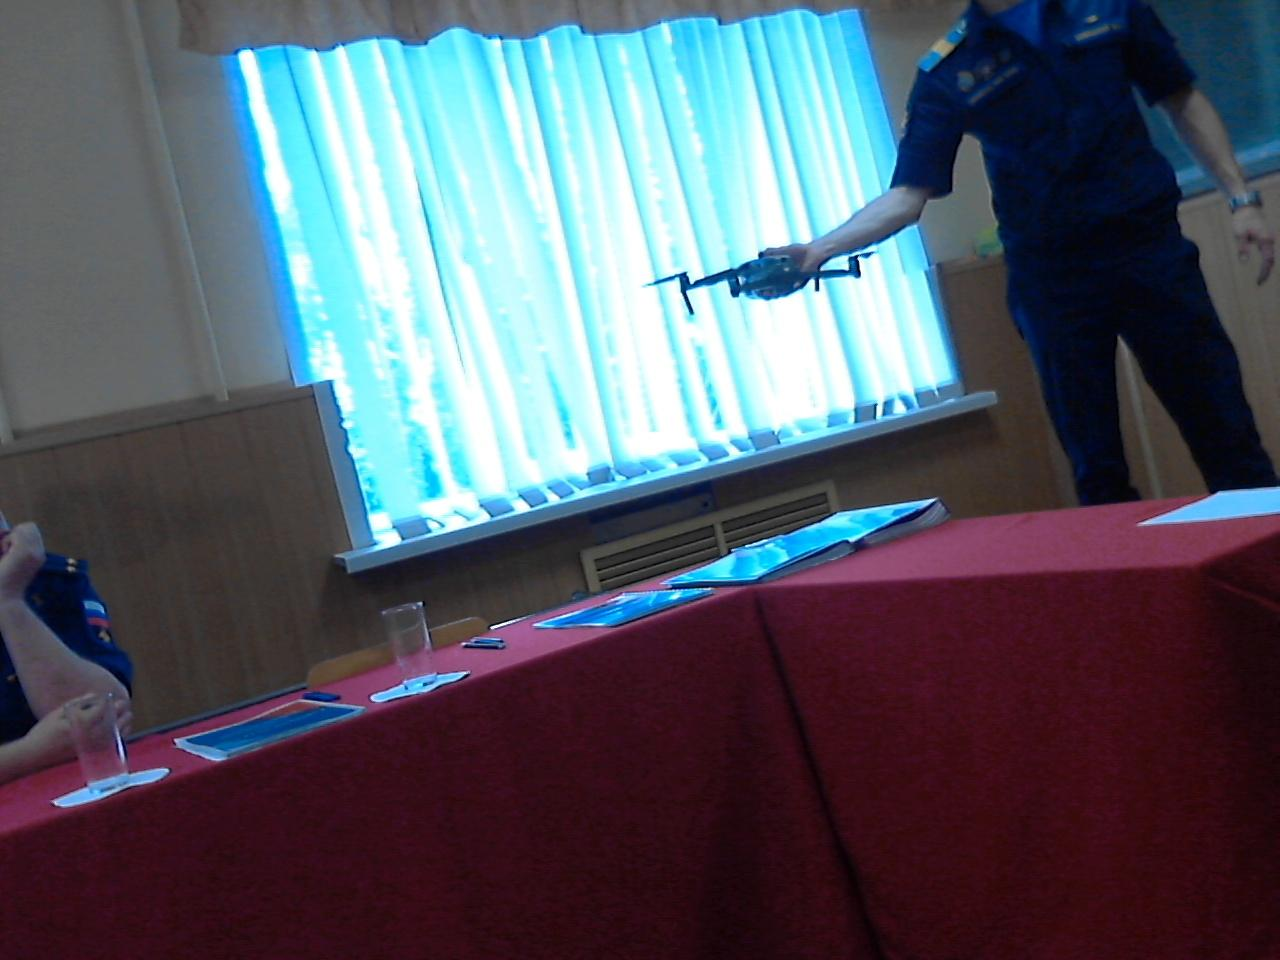drone: (648, 232, 881, 318)
